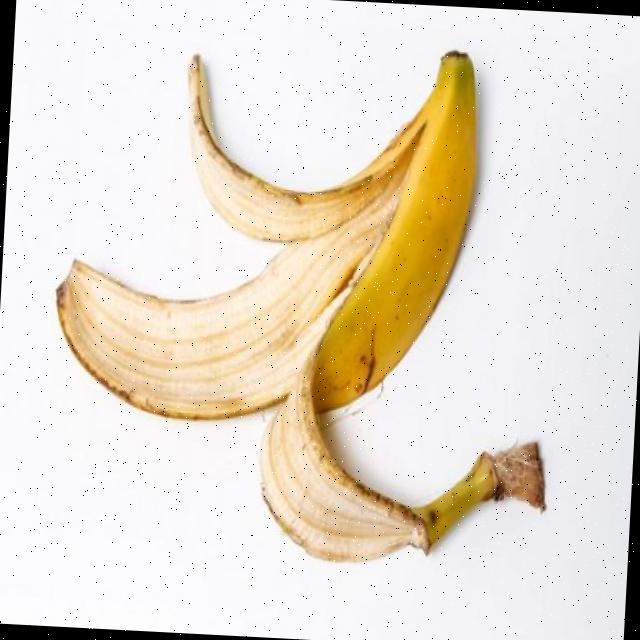banana-peel: (41, 28, 569, 573)
